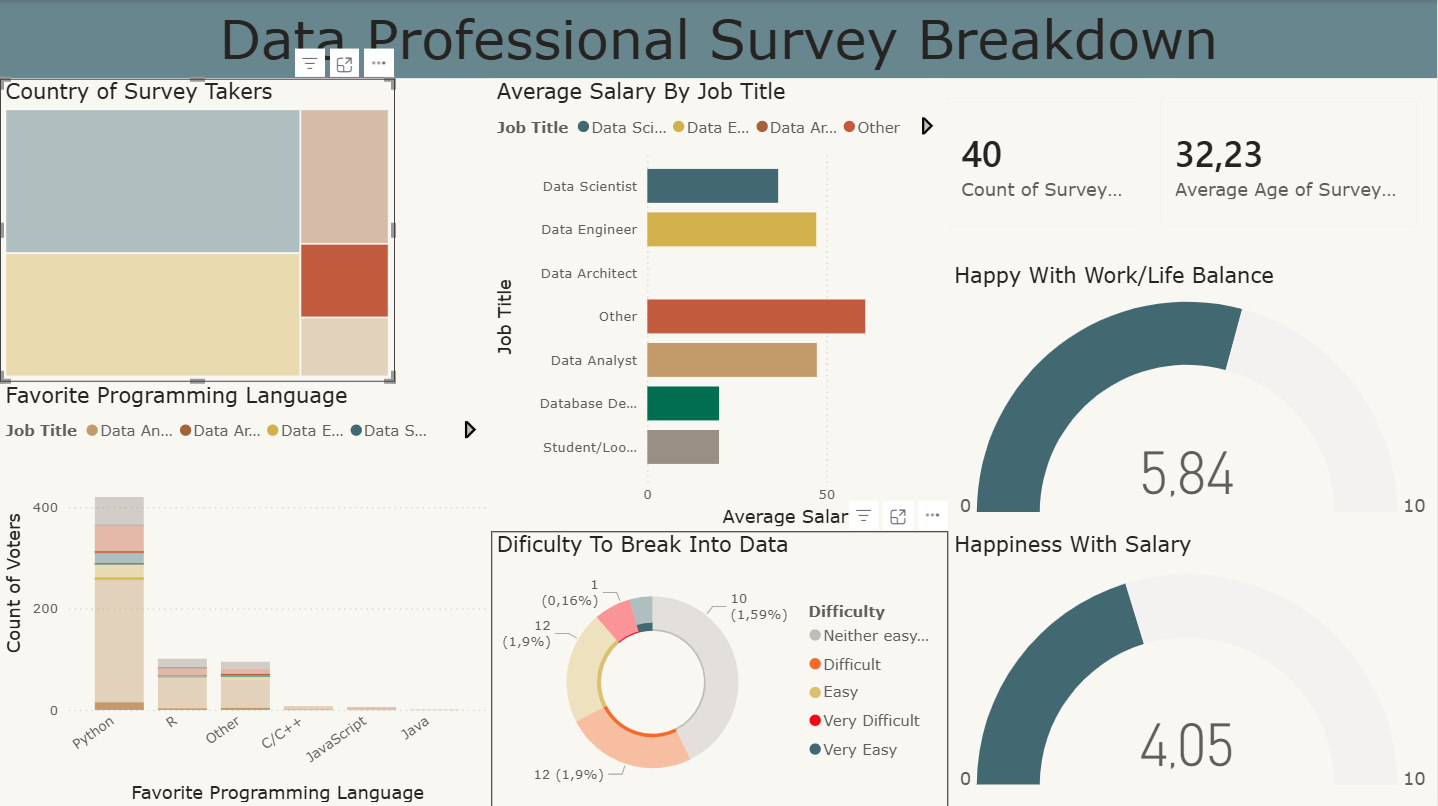

The dashboard page shown, as its layout file describes it:
{"tool":"powerbi","page":{"name":"Page 1","canvas":[1280,720],"ordinal":0},"visuals":[{"type":"textbox","box":[0,0,1280.3,70],"z":0},{"type":"cardVisual","fields":{"Data":["Count(Data Professional Survey.Unique ID)"]},"box":[826.1,70,220.9,149.6],"z":1000},{"type":"cardVisual","fields":{"Data":["Avg(Data Professional Survey.Q10 - Current Age)"]},"box":[1016.8,70,263.5,149.6],"z":2000},{"type":"barChart","title":"Average Salary By Job Title","fields":{"Category":["Data Professional Survey.Q1 - Which Title Best Fits your Current Role?.1"],"Y":["Avg(Data Professional Survey.Average Salary)"],"Series":["Data Professional Survey.Q1 - Which Title Best Fits your Current Role?.1"]},"box":[437.7,70,407.5,403.4],"z":3000},{"type":"columnChart","title":"Favorite Programming Language","fields":{"Category":["Data Professional Survey.Q5 - Favorite Programming Language.1"],"Y":["CountNonNull(Data Professional Survey.Unique ID)"],"Series":["Data Professional Survey.Q1 - Which Title Best Fits your Current Role?.1"]},"box":[0,340.3,437.7,378.7],"z":4000},{"type":"treemap","title":"Country of Survey Takers","fields":{"Group":["Data Professional Survey.Q11 - Which Country do you live in?.1"],"Values":["CountNonNull(Data Professional Survey.Q11 - Which Country do you live in?.1)"]},"box":[0,70,351.3,270.3],"z":5000},{"type":"gauge","title":"Happy With Work/Life Balance","fields":{"Y":["Avg(Data Professional Survey.Q6 - How Happy are you in your Current Position with the following? (Work/Life Balance))"],"MinValue":["Min(Data Professional Survey.Q6 - How Happy are you in your Current Position with the following? (Work/Life Balance))1"],"MaxValue":["Max(Data Professional Survey.Q6 - How Happy are you in your Current Position with the following? (Work/Life Balance))2"]},"box":[845.3,233.3,435,240.1],"z":6000},{"type":"gauge","title":"Happiness With Salary","fields":{"Y":["Avg(Data Professional Survey.Q6 - How Happy are you in your Current Position with the following? (Salary))"],"MinValue":["Min(Data Professional Survey.Q6 - How Happy are you in your Current Position with the following? (Salary))"],"MaxValue":["Max(Data Professional Survey.Q6 - How Happy are you in your Current Position with the following? (Salary))"]},"box":[845.3,473.4,435,247],"z":7000},{"type":"donutChart","title":"Dificulty To Break Into Data","fields":{"Category":["Data Professional Survey.Q7 - How difficult was it for you to break into Data?"],"Y":["CountNonNull(Data Professional Survey.Q7 - How difficult was it for you to break into Data?)"]},"box":[437.7,473.4,407.5,247],"z":8000}]}

Visuals, with their boxes in screenshot pixels (x1, y1, x2, y2), scaled from the page's 1280x720 canvas onto the 1438x806 screenshot:
textbox: 0 0 1437 78
cardVisual - Count(Data Professional Survey.Unique ID): 928 78 1176 246
cardVisual - Avg(Data Professional Survey.Q10 - Current Age): 1142 78 1437 246
"Average Salary By Job Title" barChart: 492 78 950 530
"Favorite Programming Language" columnChart: 0 381 492 805
"Country of Survey Takers" treemap: 0 78 395 381
"Happy With Work/Life Balance" gauge: 950 261 1437 530
"Happiness With Salary" gauge: 950 530 1437 805
"Dificulty To Break Into Data" donutChart: 492 530 950 805
